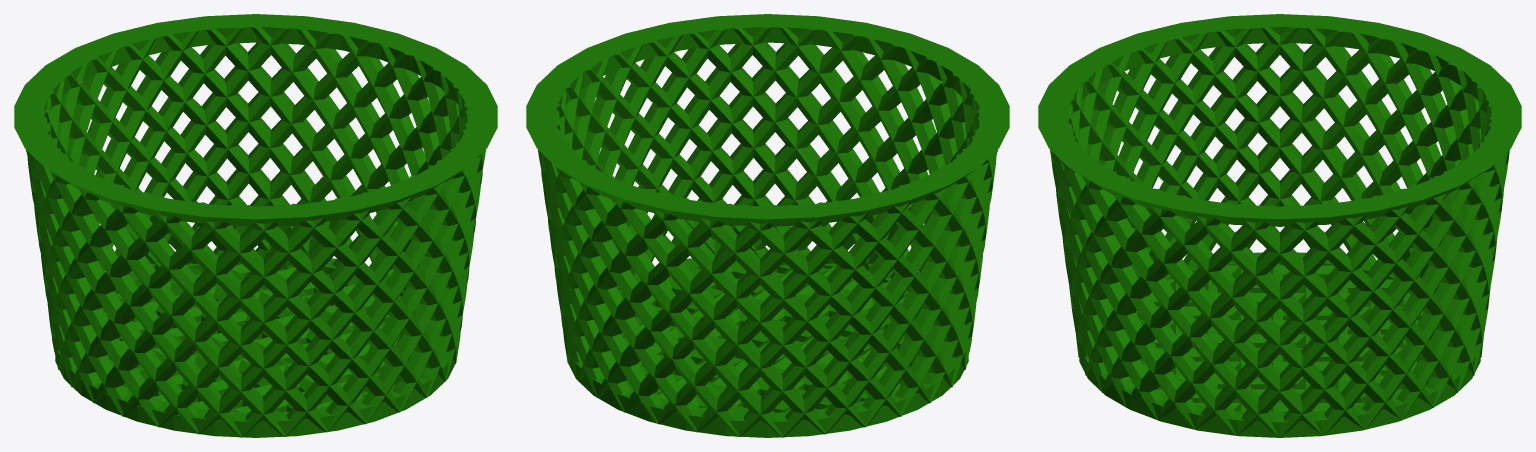
The model's file is planter.stl.glb.
The picture shows the model from 3 angles, left to right: view 1: azimuth 30°, elevation 25°; view 2: azimuth 150°, elevation 25°; view 3: azimuth 270°, elevation 25°; orthographic projection.
Visible parts, largest first — view 1: Planter; view 2: Planter; view 3: Planter.
Part boxes in pixels (x1,y1,x2,y2): Planter: [14, 14, 497, 437]; Planter: [526, 14, 1009, 437]; Planter: [1038, 14, 1521, 437].
Bounding box in the file's own units: 112 × 60 × 111.
